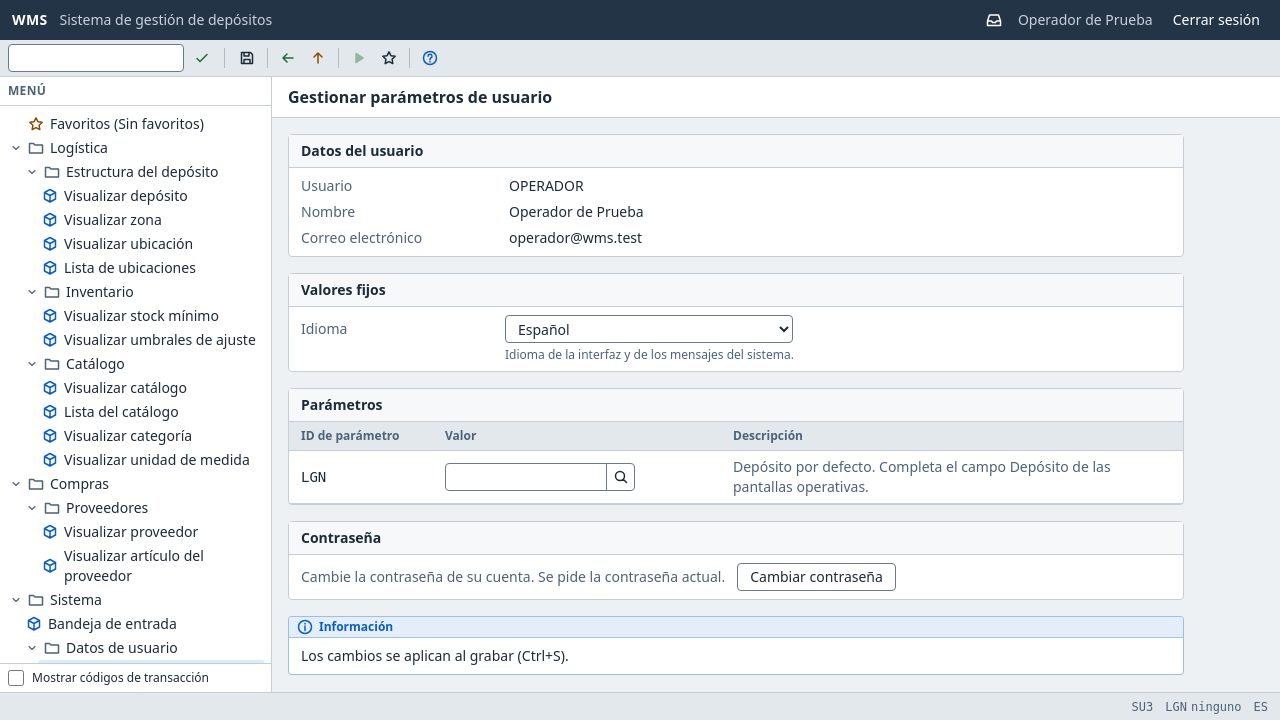
it: armazón: aviso de datos sin grabar › F3 con cambios pide confirmación; seguir editando conserva la pantalla y sus datos
In the field labelled "LGN": (526, 477) [446,464,606,490], type "NOR"
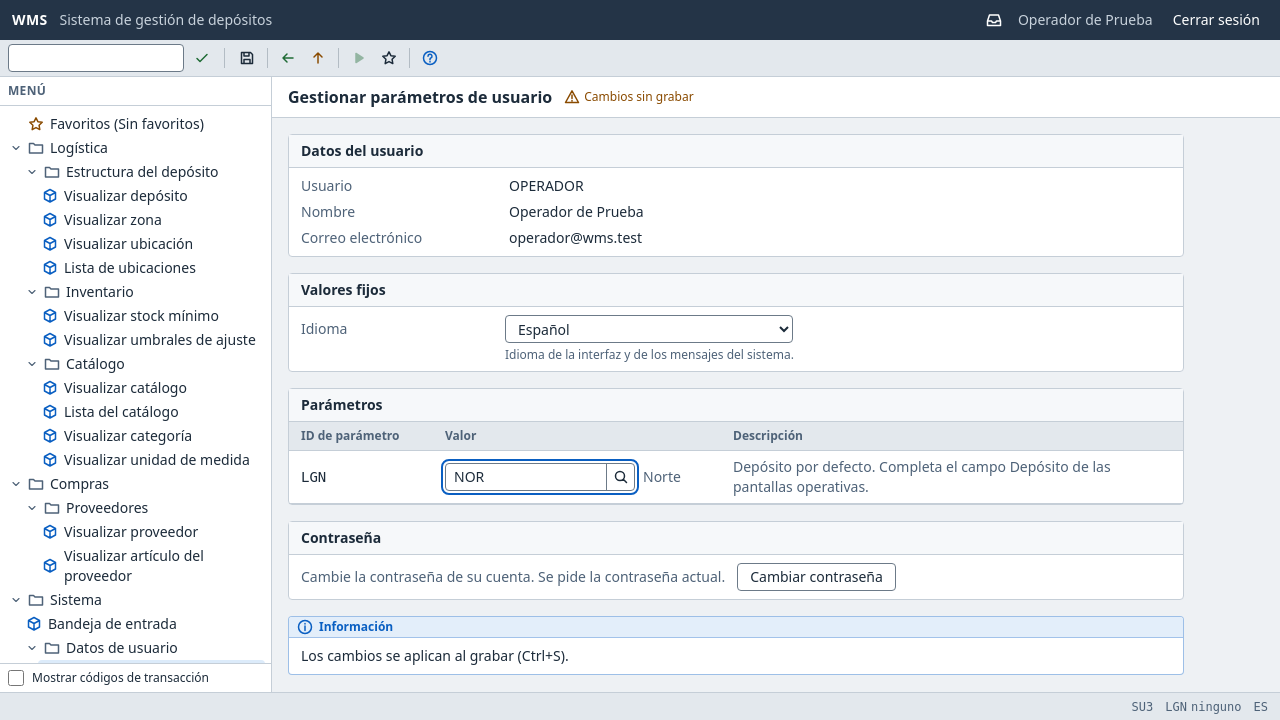
Press F3
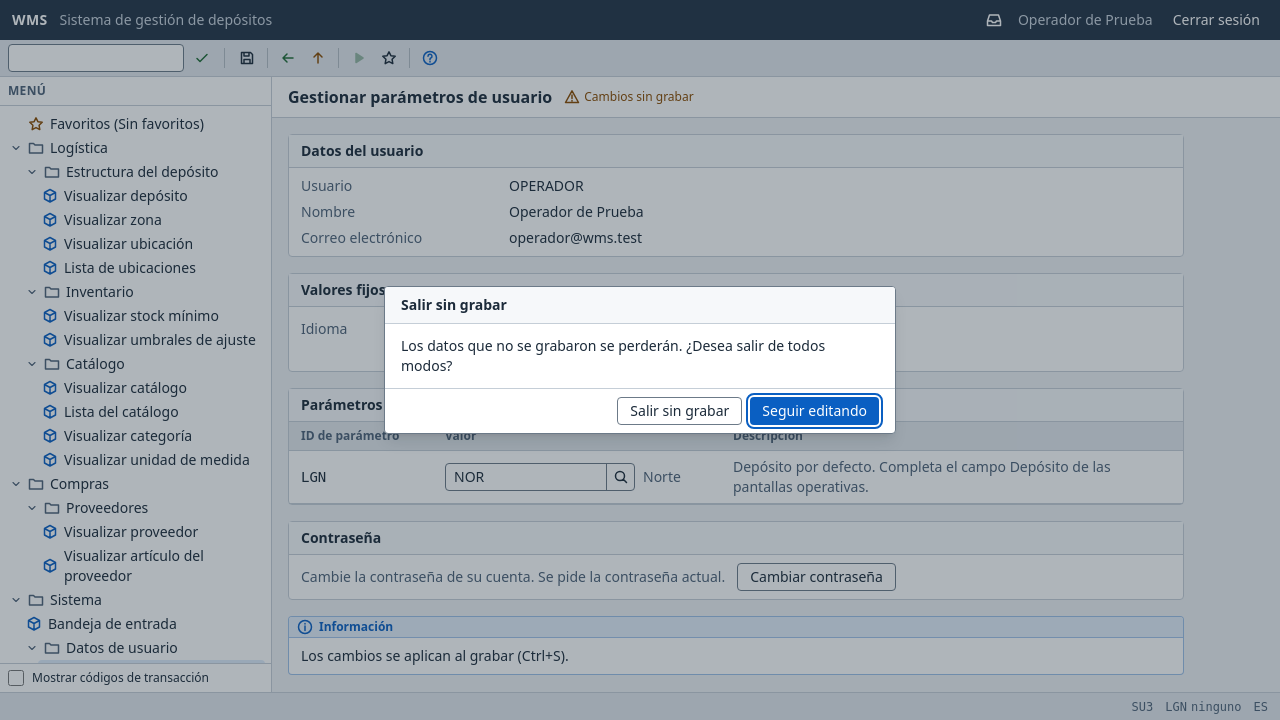
Click the button "Seguir editando": click(815, 411) [750,397,879,425]
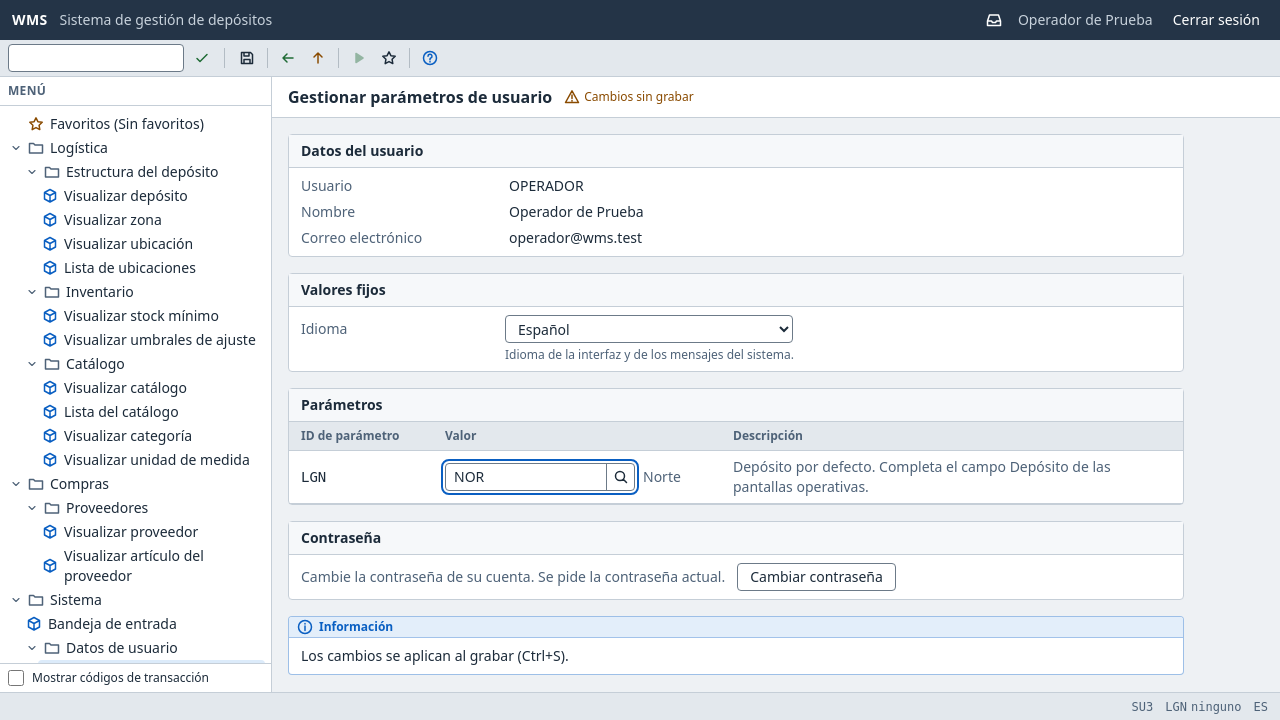
Expected: the heading "Gestionar parámetros de usuario" is shown, [288,85,552,109]
Now the heading "Salir sin grabar" is gone
